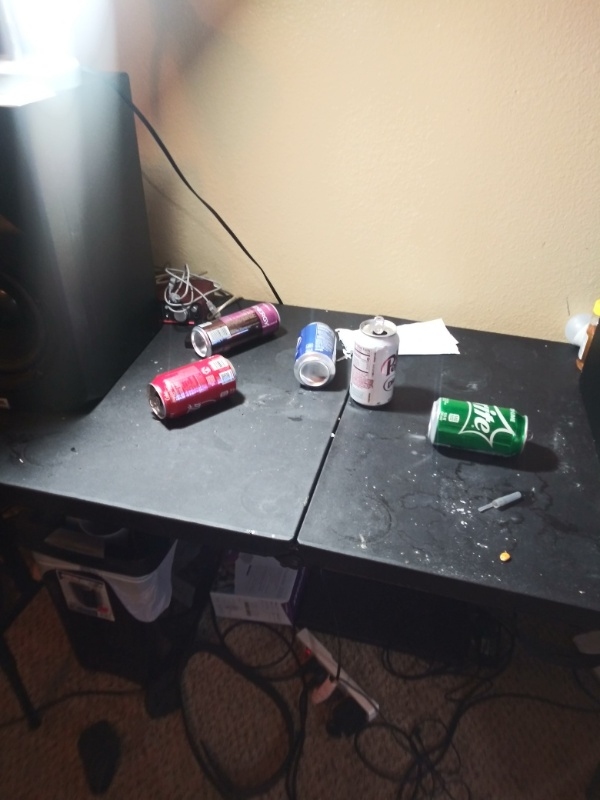can: (423, 396, 536, 462), (146, 351, 241, 426), (344, 313, 401, 411), (191, 301, 287, 358), (291, 320, 338, 391)
